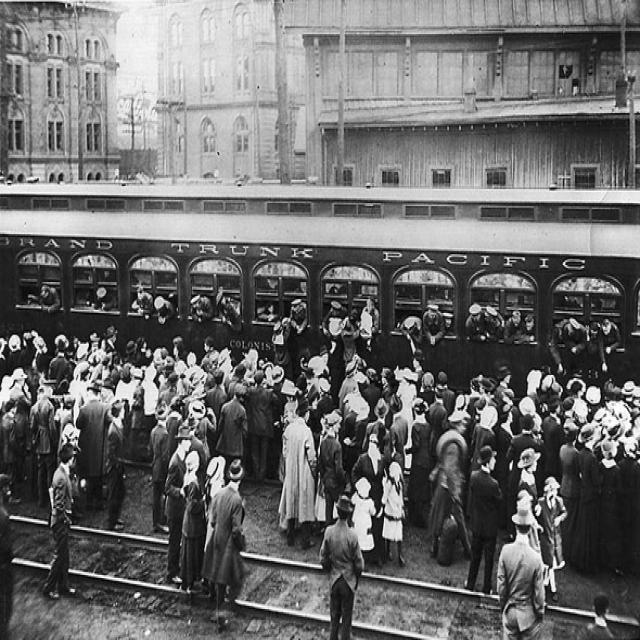body: (0, 279, 639, 477), (200, 457, 248, 634), (428, 408, 478, 567), (318, 492, 364, 638), (494, 504, 544, 638), (279, 398, 320, 552), (39, 440, 78, 600), (462, 443, 502, 597), (350, 432, 388, 570), (75, 380, 114, 514), (164, 426, 193, 586), (243, 369, 280, 485), (575, 423, 604, 569), (535, 474, 567, 603), (181, 448, 207, 593), (558, 415, 582, 567), (403, 398, 433, 518), (146, 398, 172, 535), (464, 302, 507, 384), (318, 409, 348, 524), (215, 381, 249, 470), (105, 400, 128, 531), (379, 459, 406, 567), (614, 436, 639, 552), (200, 454, 228, 555), (349, 474, 376, 574), (0, 470, 15, 638), (542, 394, 568, 485), (478, 302, 506, 384), (467, 403, 498, 476), (320, 298, 348, 378), (334, 316, 361, 391), (505, 412, 539, 471), (361, 395, 392, 453), (388, 392, 409, 476), (561, 316, 588, 381), (358, 293, 379, 373), (561, 315, 589, 375), (398, 313, 424, 377), (516, 488, 542, 552), (580, 592, 616, 638), (596, 318, 622, 381), (594, 434, 620, 494), (516, 446, 544, 501), (90, 284, 116, 342), (596, 316, 622, 374), (132, 282, 154, 346), (288, 294, 308, 361), (153, 293, 177, 345), (422, 302, 446, 347), (215, 290, 242, 328), (188, 293, 214, 327), (503, 310, 526, 345), (38, 282, 61, 313), (517, 313, 536, 344), (436, 308, 455, 336), (281, 316, 296, 350)
